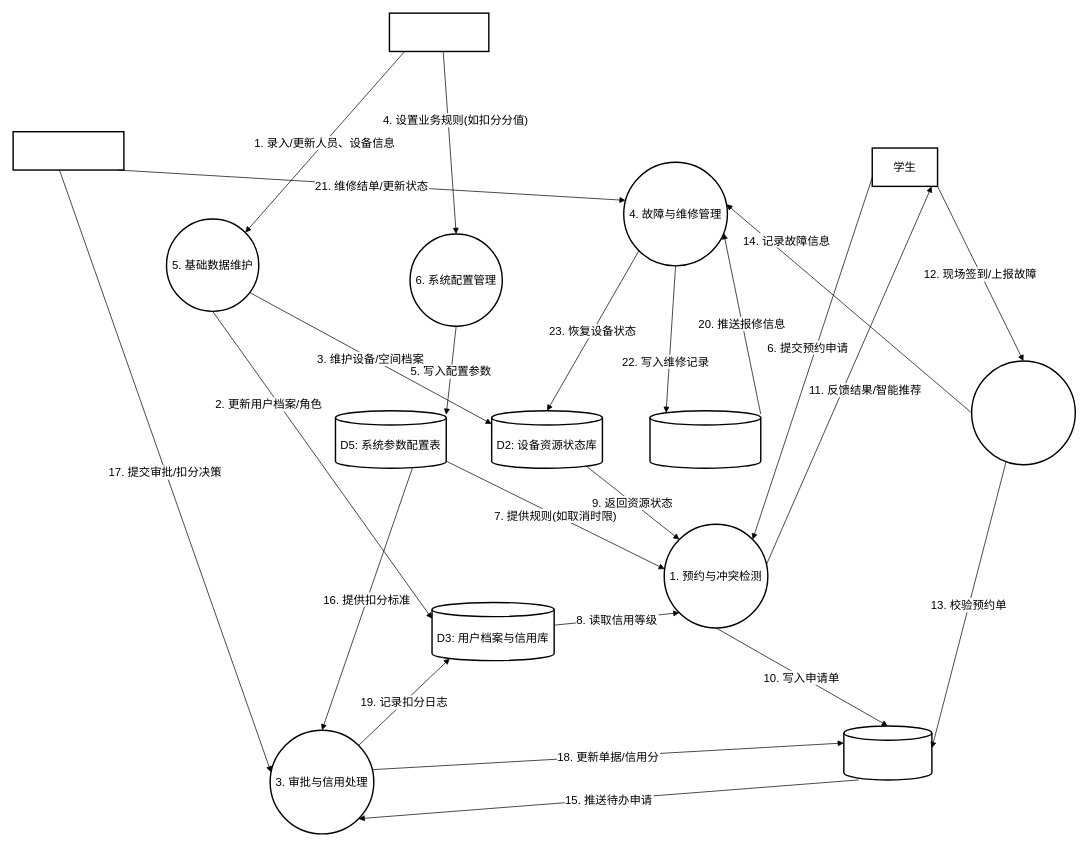
Some shapes in this 1088 by 846 pixel diagram are drawn without their labels. Here are the shapes that lost their labels. From the top down, the centre of each, then its label:
At [438,32]: "系统管理员".
At [68,150]: "实验室管理员".
At [1023,412]: "2. 现场签到与联控".
At [705,439]: "D4: 故障维修记录表".
At [887,752]: "D1: 预约记录表".
